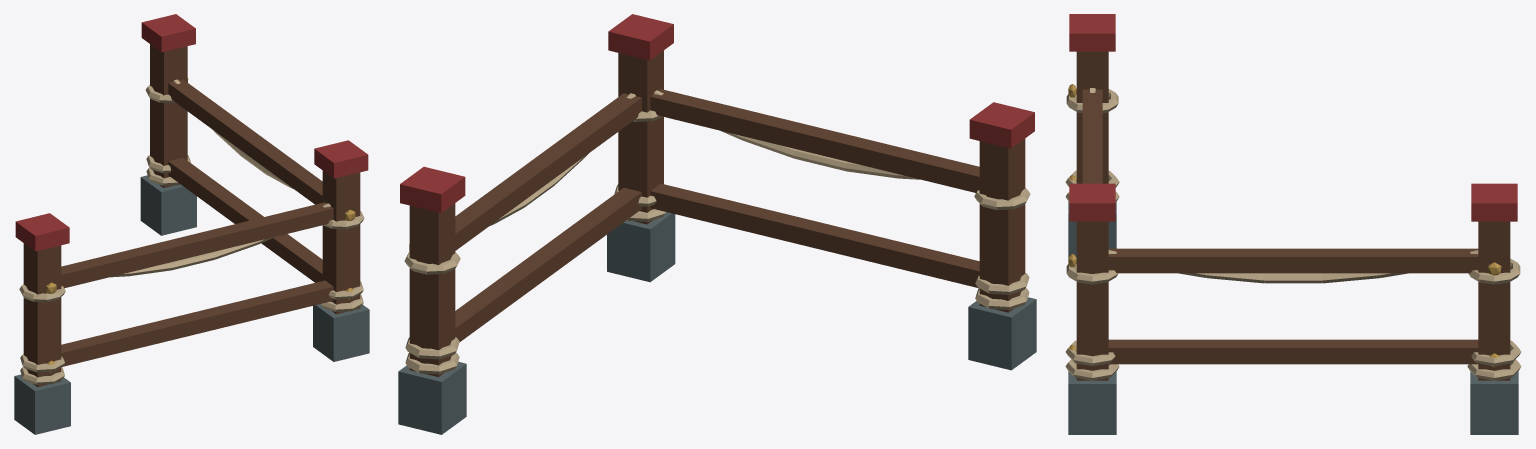
The model's file is PirateCove_FenceCorner_Showcase.glb.
3 renders of one model, left to right at view 1: azimuth 30°, elevation 25°; view 2: azimuth 150°, elevation 25°; view 3: azimuth 270°, elevation 25°, orthographic. The views are drawn at different scales.
Parts seen in each view (by area): view 1: PirateCove_FenceCorner_Showcase; view 2: PirateCove_FenceCorner_Showcase; view 3: PirateCove_FenceCorner_Showcase.
Boxes of the visible parts, <box> form: PirateCove_FenceCorner_Showcase: <box>14,14,369,434</box>; PirateCove_FenceCorner_Showcase: <box>398,14,1036,434</box>; PirateCove_FenceCorner_Showcase: <box>1065,14,1521,434</box>.
Bounding box in the file's own units: 2.27 × 1.27 × 2.27.
